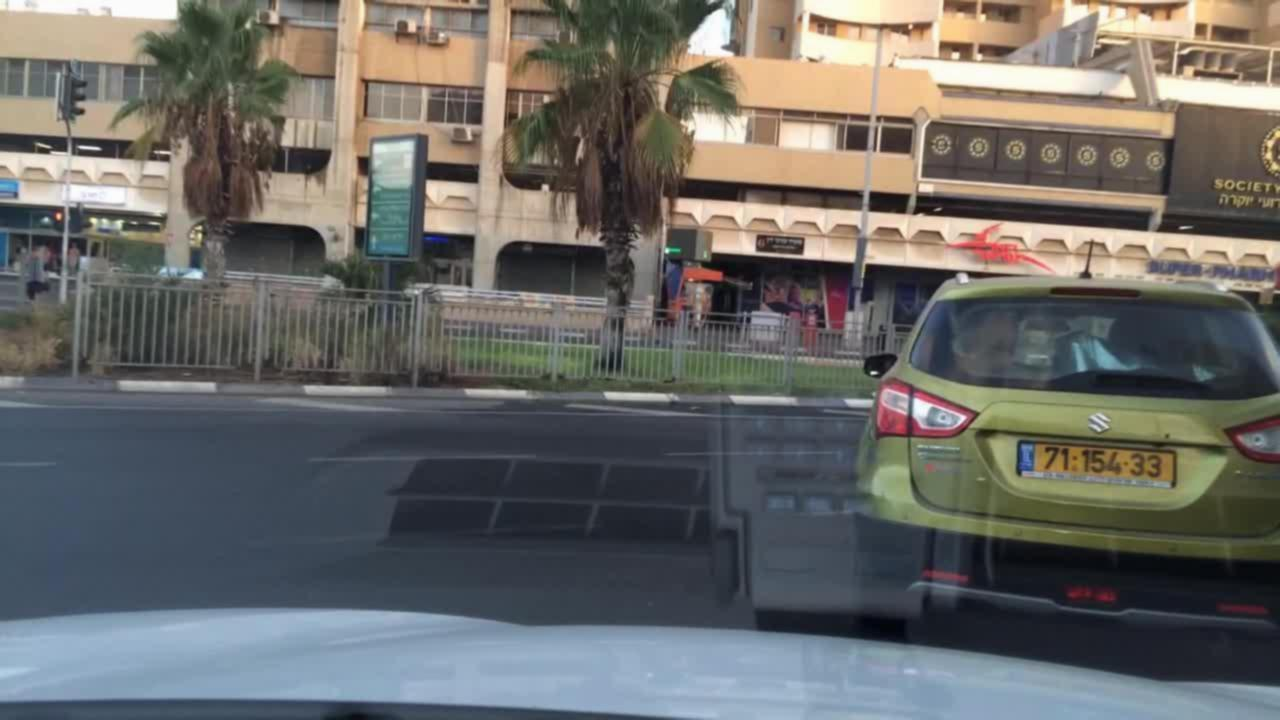suzuki: (1082, 406, 1123, 446)
